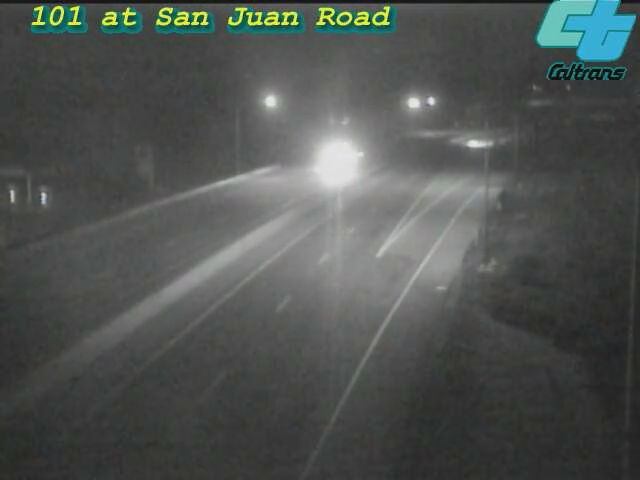vehicle: (314, 135, 364, 185), (449, 117, 499, 167)
